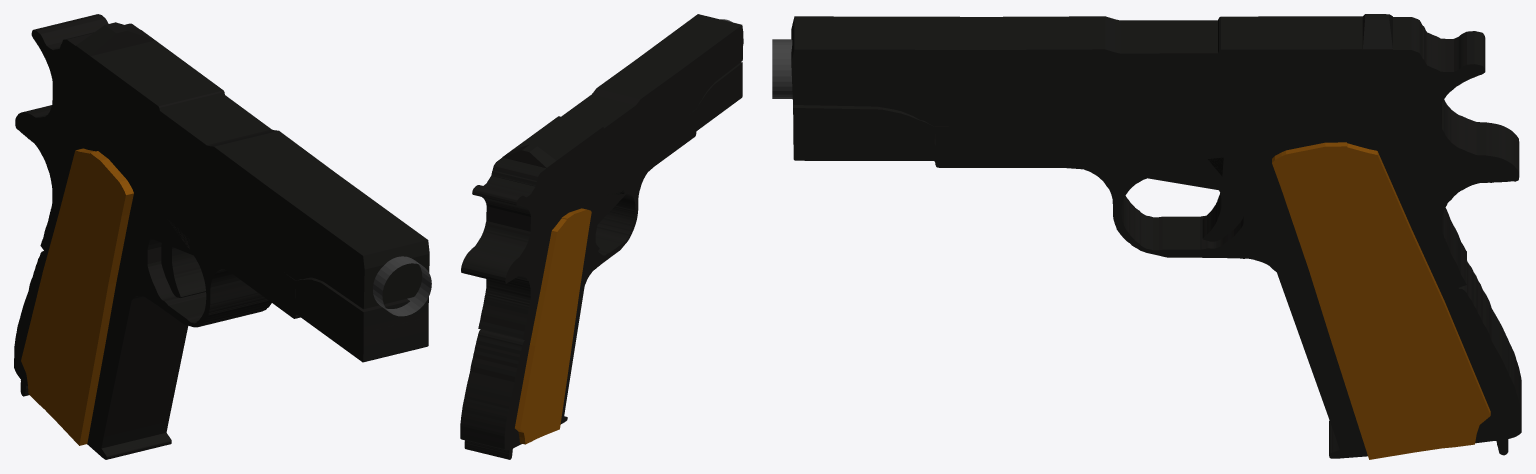
File: grapplingGunPistol.fbx
3 views of the same model, side by side, from view 1: azimuth 30°, elevation 25°; view 2: azimuth 150°, elevation 25°; view 3: azimuth 270°, elevation 25° (orthographic). The views are drawn at different scales.
Parts seen in each view (by area): view 1: Cube, Grip, Cylinder; view 2: Cube, Grip; view 3: Cube, Grip, Cylinder.
Part boxes in pixels (box(x1,y1,x2,y2)): Cube: box(14, 14, 429, 459); Grip: box(21, 148, 133, 445); Cylinder: box(373, 256, 431, 316); Cube: box(460, 14, 743, 459); Grip: box(515, 208, 591, 444); Cube: box(791, 14, 1521, 458); Grip: box(1272, 142, 1490, 459); Cylinder: box(772, 39, 792, 98).
Bounding box in the file's own units: 65.65 × 316 × 504.
